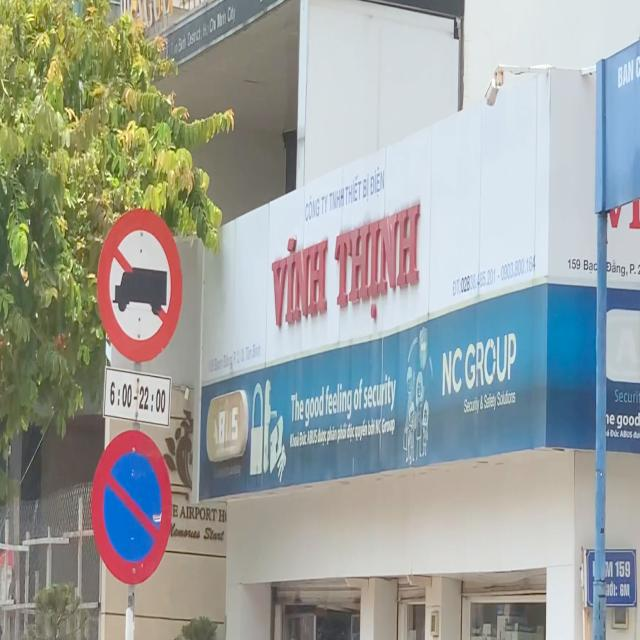Cam con lai: (97, 206, 188, 366)
Cam do: (91, 427, 177, 586)
